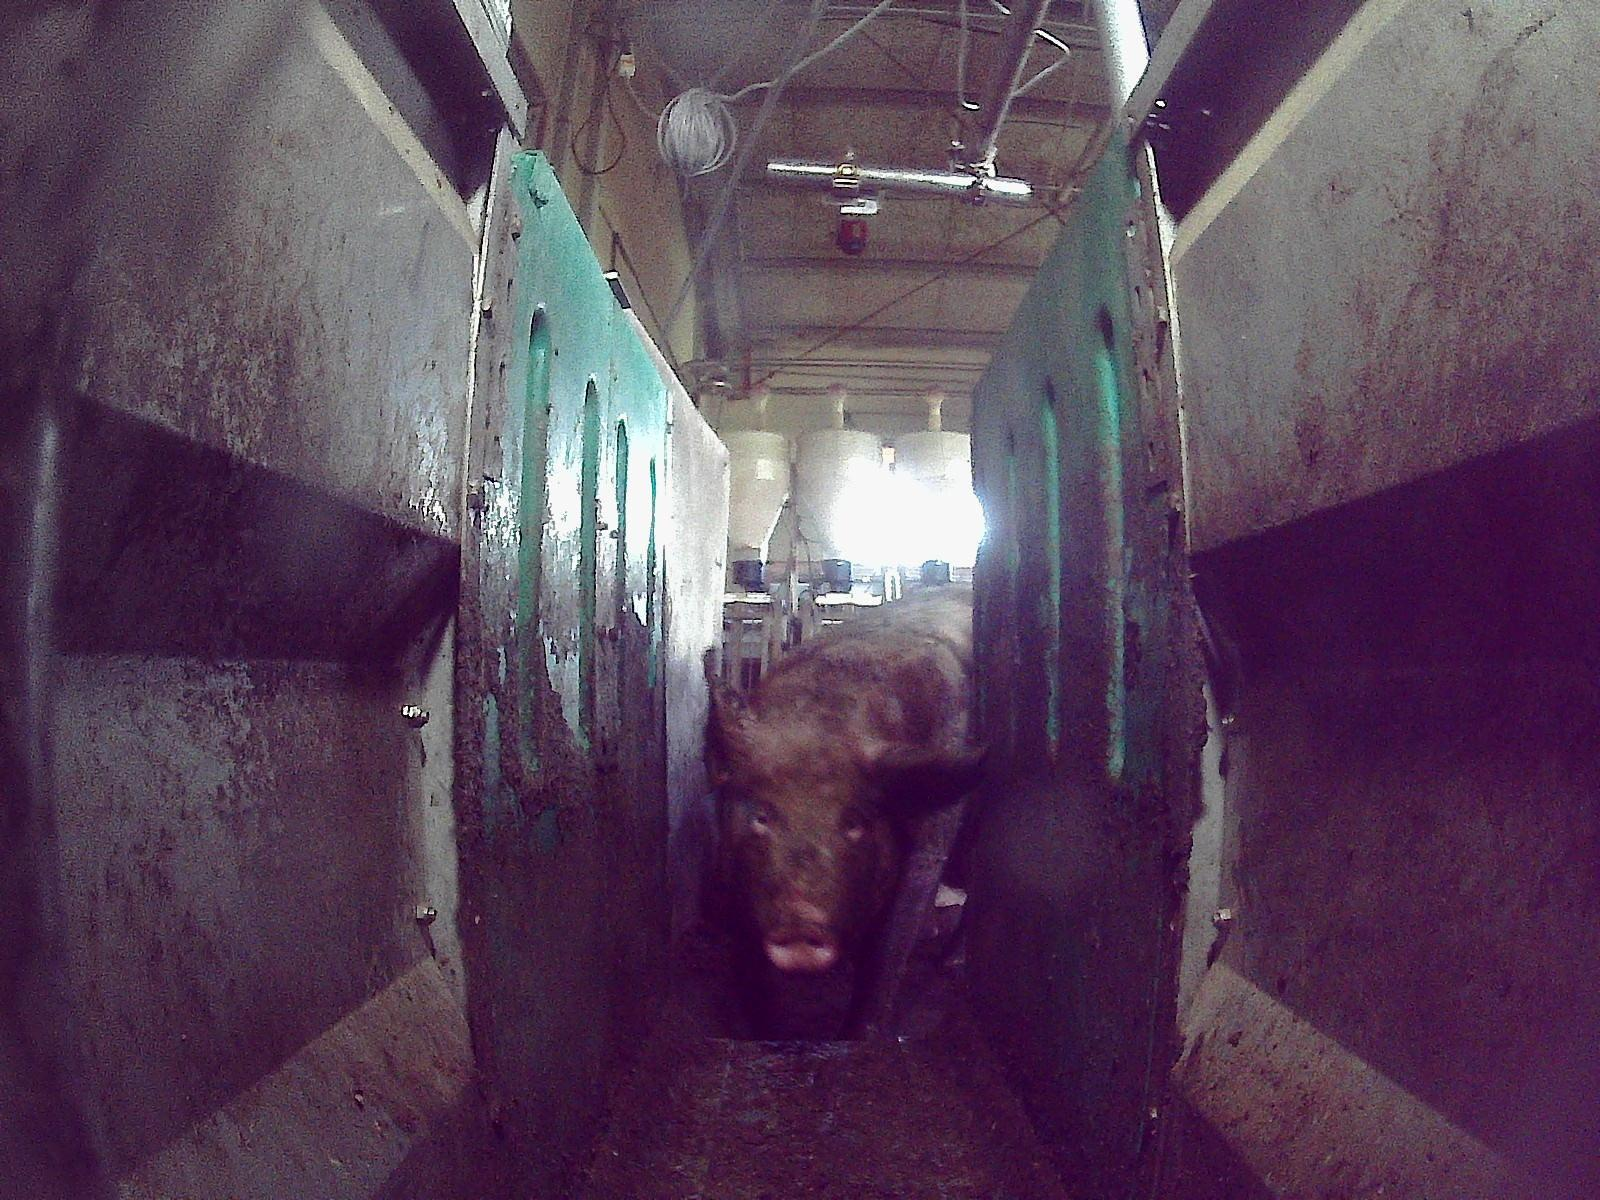Face: (723, 725, 880, 975)
